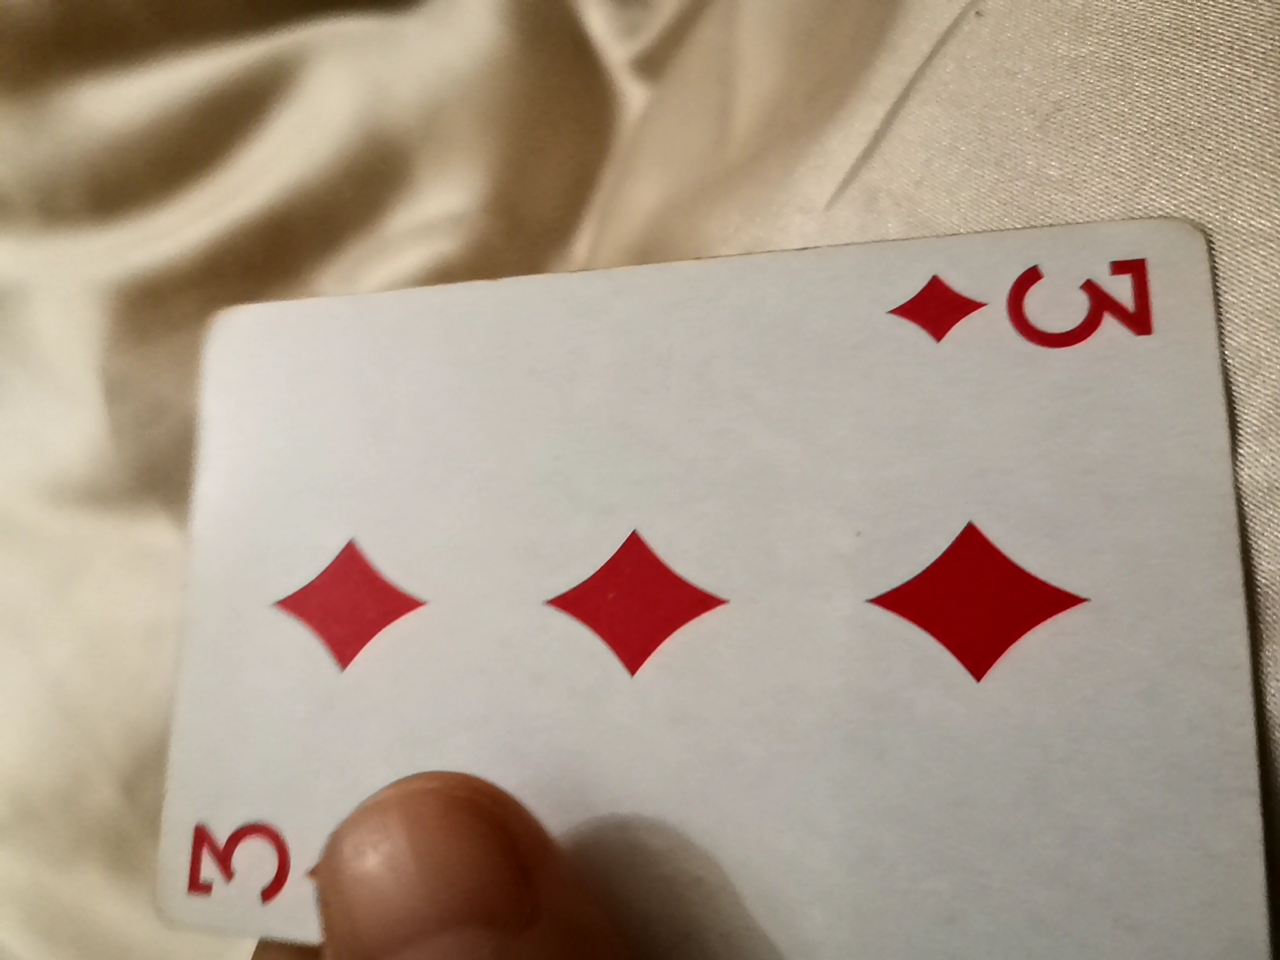fk 3: (94, 203, 1257, 952)
